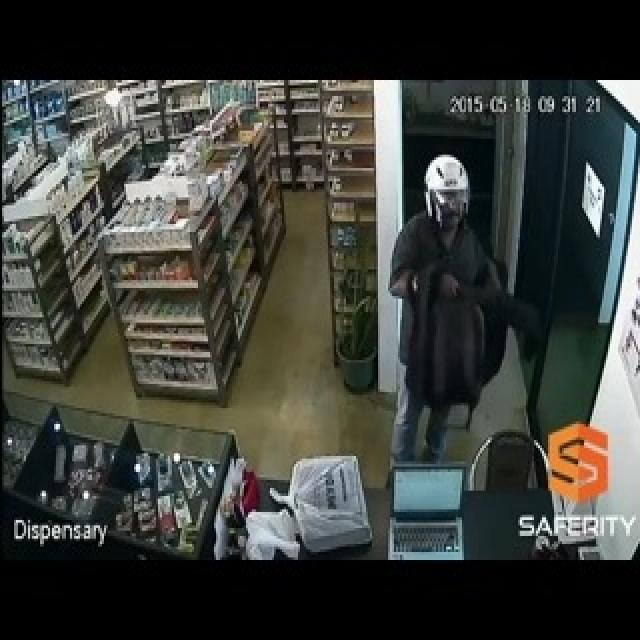thief: (391, 172, 514, 463)
